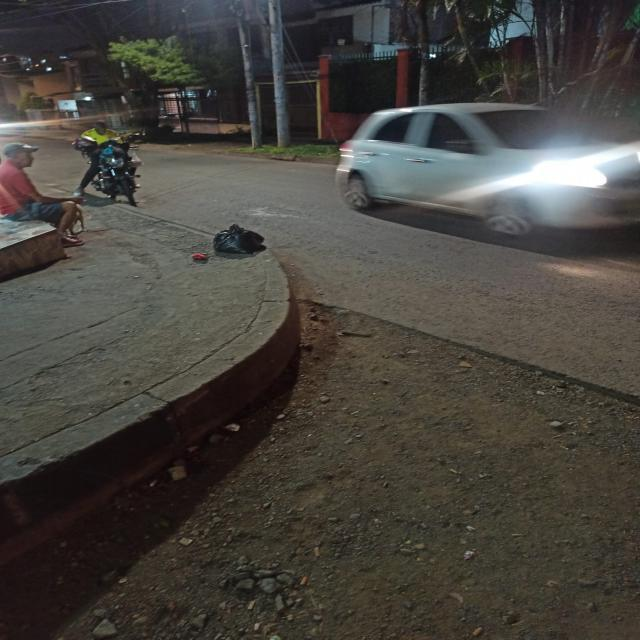Trashbag: (212, 220, 265, 261)
